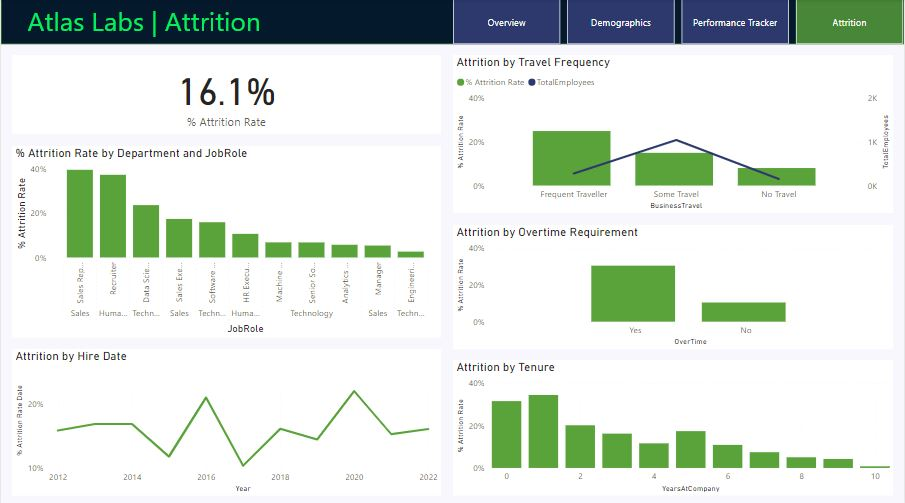

The dashboard page shown, as its layout file describes it:
{"tool":"powerbi","page":{"name":"Attrition","canvas":[1280,720],"ordinal":3},"visuals":[{"type":"card","fields":{"Values":["_Measures.% Attrition Rate"]},"box":[16,80,608,112],"z":0},{"type":"columnChart","fields":{"Category":["DimEmployee.Department","DimEmployee.JobRole"],"Y":["_Measures.% Attrition Rate"]},"box":[16,208,608,272],"z":1000},{"type":"lineChart","title":"Attrition by Hire Date","fields":{"Y":["_Measures.% Attrition Rate Date"],"Category":["DimDate.Date.Variation.Date Hierarchy.Year","DimDate.Date.Variation.Date Hierarchy.Quarter","DimDate.Date.Variation.Date Hierarchy.Month","DimDate.Date.Variation.Date Hierarchy.Day"]},"box":[16,496,608,208],"z":2000},{"type":"lineStackedColumnComboChart","title":"Attrition by Travel Frequency","fields":{"Y":["_Measures.% Attrition Rate"],"Category":["DimEmployee.BusinessTravel"],"Y2":["_Measures.TotalEmployees"]},"box":[640,80,624,224],"z":3000},{"type":"columnChart","title":"Attrition by Overtime Requirement","fields":{"Category":["DimEmployee.OverTime"],"Y":["_Measures.% Attrition Rate"]},"box":[640,320,624,176],"z":4000},{"type":"columnChart","title":"Attrition by Tenure","fields":{"Category":["DimEmployee.YearsAtCompany"],"Y":["_Measures.% Attrition Rate"]},"box":[640,512,624,192],"z":5000},{"type":"shape","box":[0,0,1280,64],"z":6000},{"type":"textbox","box":[32,0,624,64],"z":7000},{"type":"pageNavigator","box":[640,0,640,64],"z":8000}]}

Visuals, with their boxes in screenshot pixels (x1, y1, x2, y2), scaled from the page's 1280x720 canvas onto the 905x503 screenshot:
card - _Measures.% Attrition Rate: BBox(11, 56, 441, 134)
columnChart - DimEmployee.Department x DimEmployee.JobRole: BBox(11, 145, 441, 335)
"Attrition by Hire Date" lineChart: BBox(11, 347, 441, 492)
"Attrition by Travel Frequency" lineStackedColumnComboChart: BBox(452, 56, 894, 212)
"Attrition by Overtime Requirement" columnChart: BBox(452, 224, 894, 347)
"Attrition by Tenure" columnChart: BBox(452, 358, 894, 492)
shape: BBox(0, 0, 904, 45)
textbox: BBox(23, 0, 464, 45)
pageNavigator: BBox(452, 0, 904, 45)
